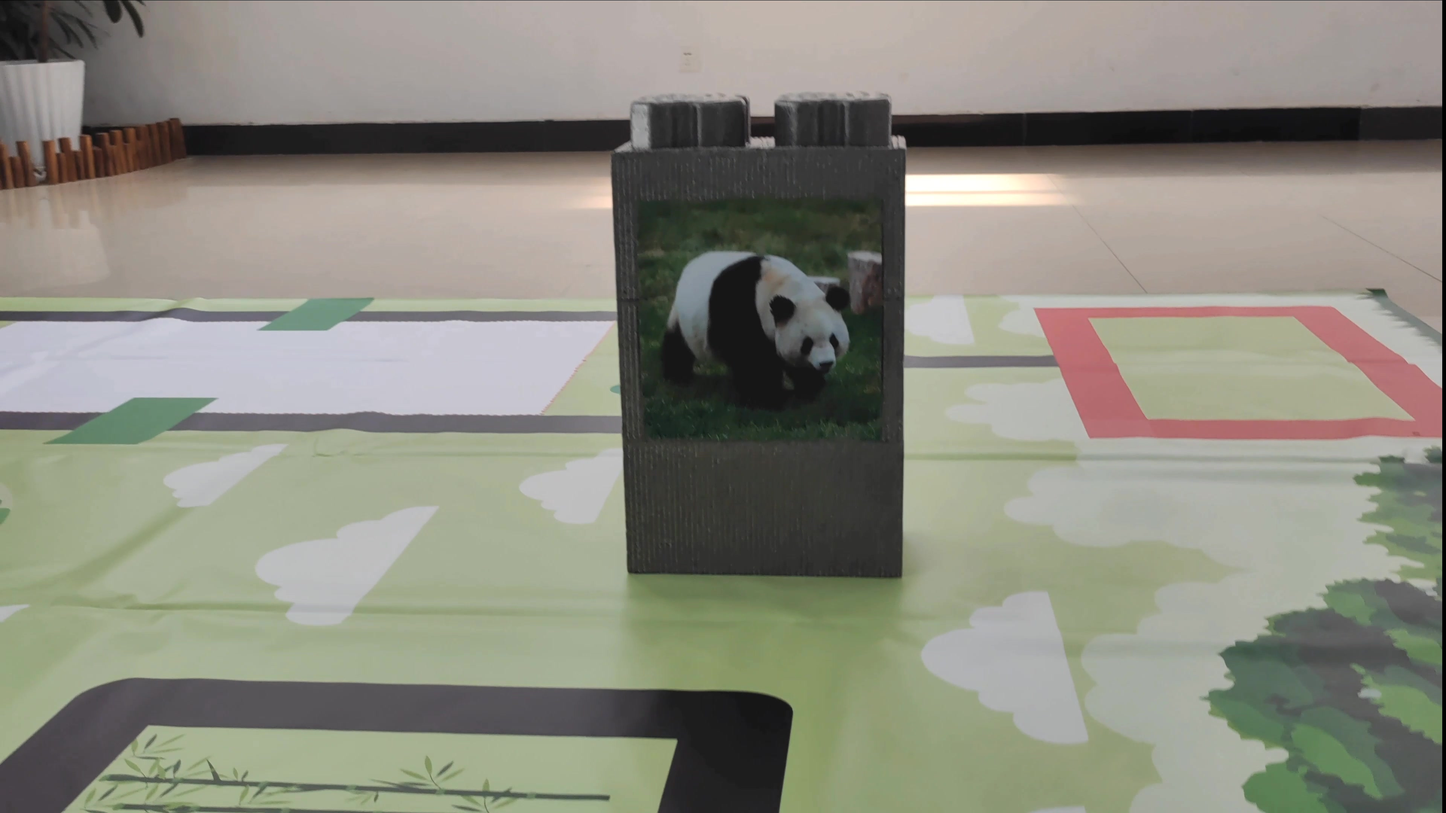panda: (642, 234, 878, 434)
